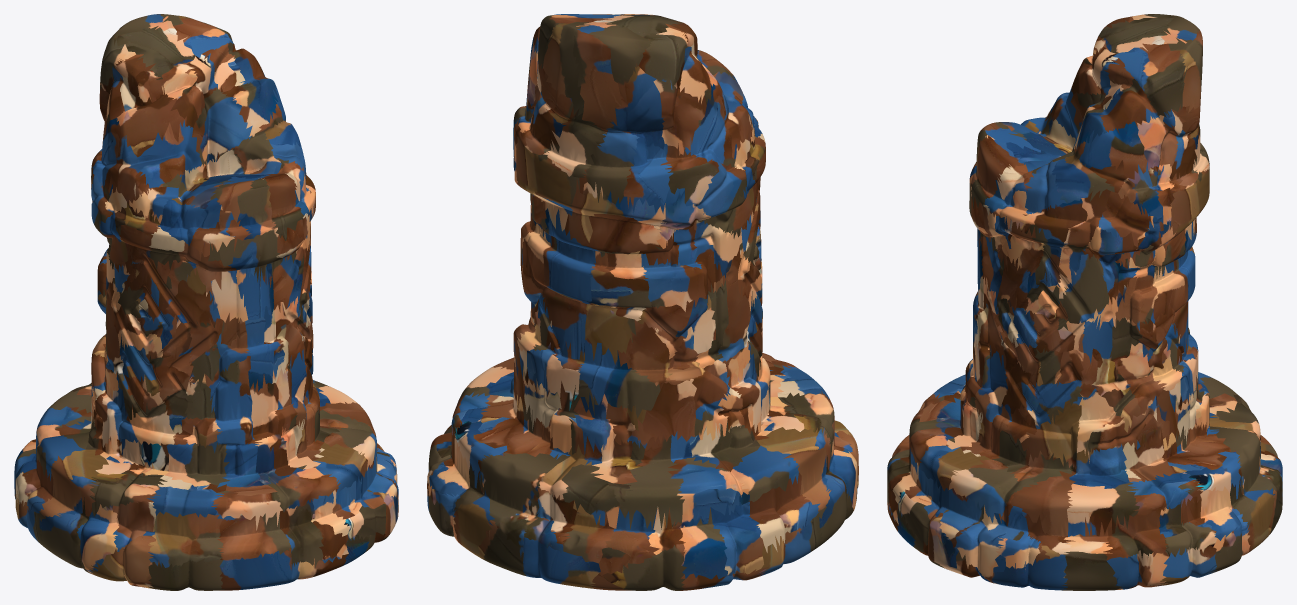
Rendered from VD_Prop_BrokenTotem_01_LOD0.fbx.
3 renders of one model, left to right at view 1: azimuth 30°, elevation 25°; view 2: azimuth 150°, elevation 25°; view 3: azimuth 270°, elevation 25°, orthographic. The views are drawn at different scales.
Parts seen in each view (by area): view 1: Mesh_0; view 2: Mesh_0; view 3: Mesh_0.
Boxes of the visible parts, x1,y1,x2,y2 form: Mesh_0: (14,14,398,590); Mesh_0: (427,14,858,590); Mesh_0: (887,14,1282,590).
Bounding box in the file's own units: 140 × 190 × 143.
